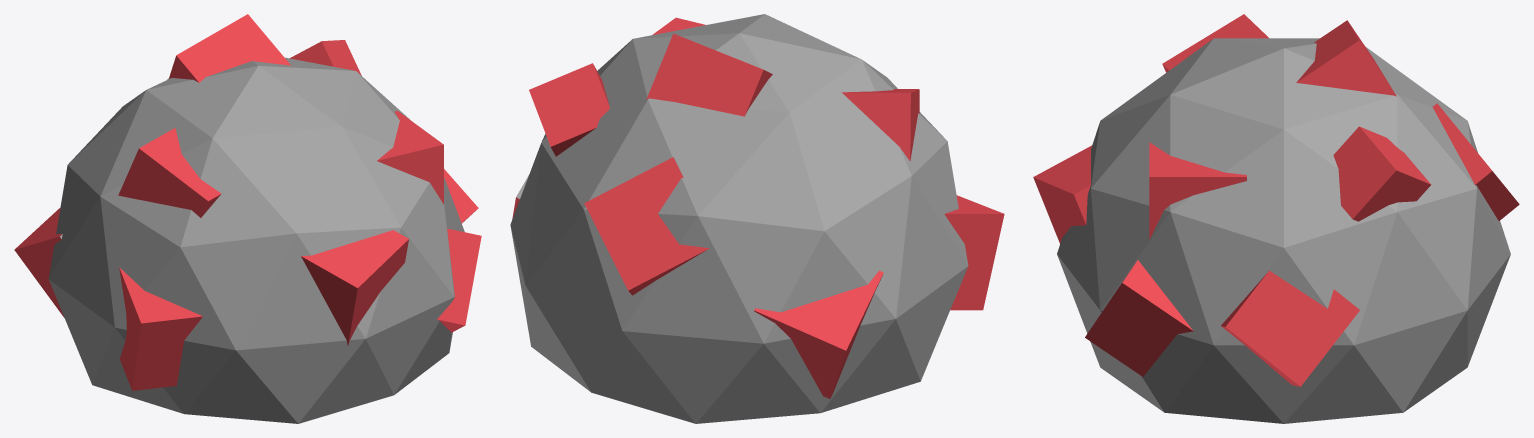
File: Ruby.fbx
3 views of the same model, side by side, from view 1: azimuth 30°, elevation 25°; view 2: azimuth 150°, elevation 25°; view 3: azimuth 270°, elevation 25° (orthographic). The views are drawn at different scales.
Parts seen in each view (by area): view 1: Kula ico; view 2: Kula ico; view 3: Kula ico.
Boxes of the visible parts, x1,y1,x2,y2 form: Kula ico: (14, 14, 481, 423); Kula ico: (510, 14, 1004, 423); Kula ico: (1033, 14, 1519, 423).
Bounding box in the file's own units: 103 × 76.76 × 107.
